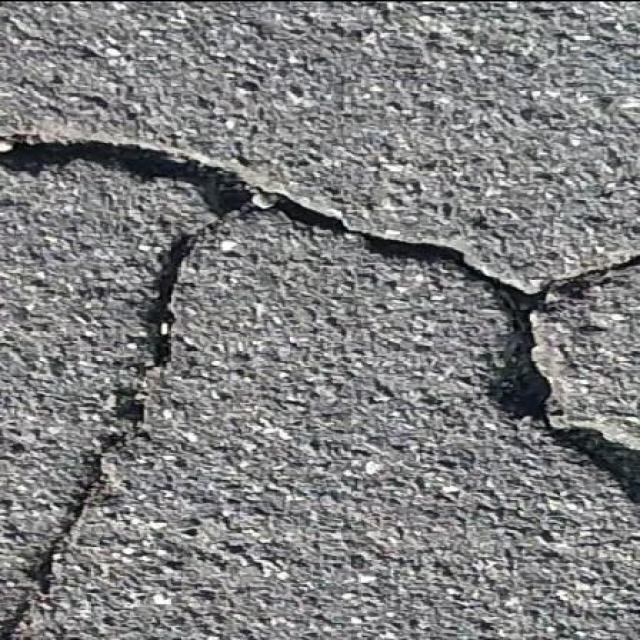Crack: (0, 133, 639, 640)
